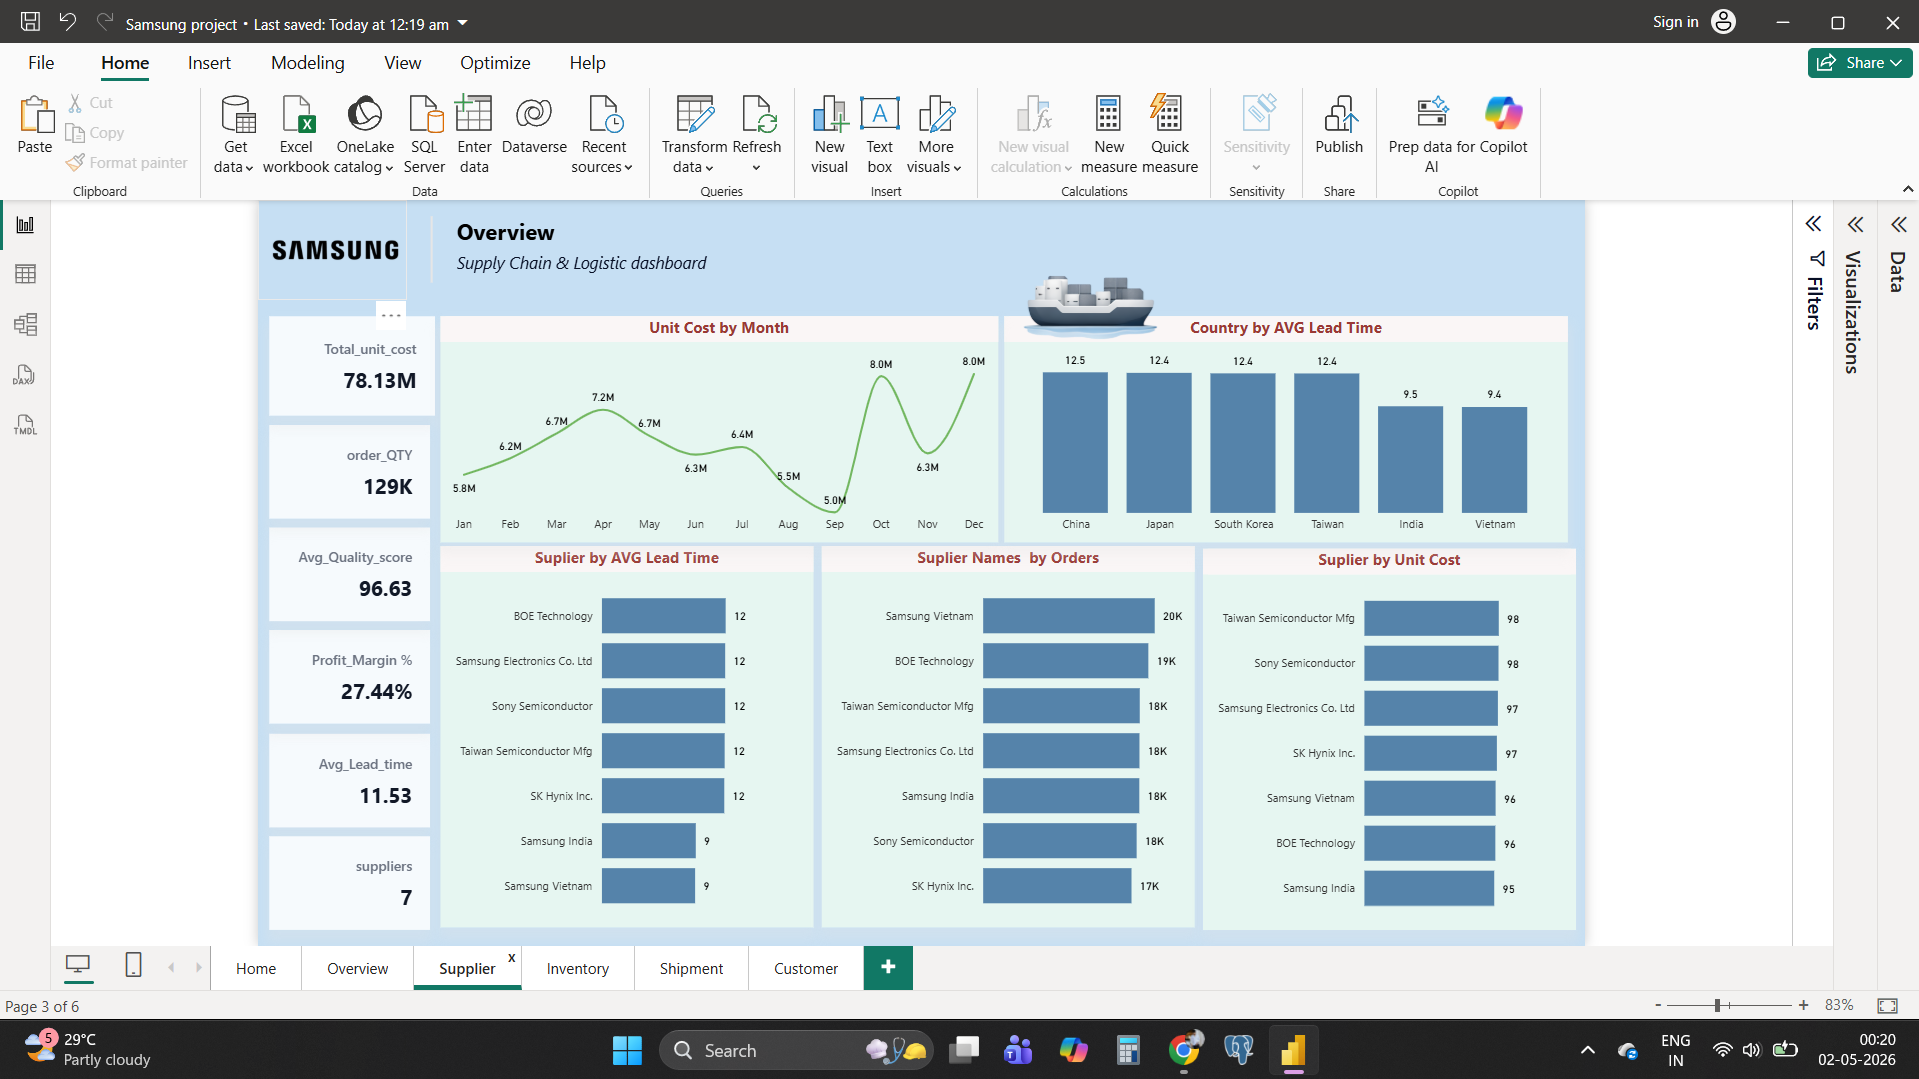

What the dashboard file says about the page in this screenshot:
{"tool":"powerbi","page":{"name":"Supplier","canvas":[1280,720],"ordinal":2},"visuals":[{"type":"shape","title":"Overview","box":[192,16,256,64],"z":0},{"type":"shape","box":[144,16,48,64],"z":1000},{"type":"image","box":[0,0,144,96],"z":2000},{"type":"cardVisual","fields":{"Data":["Measures_table.Avg_Lead_time"]},"box":[11.1,514.7,155,90],"z":3000},{"type":"cardVisual","fields":{"Data":["Measures_table.Profit_Margin %"]},"box":[11.1,415.5,155,90],"z":4000},{"type":"cardVisual","fields":{"Data":["CountNonNull(dim_supplier.supplier_id)"]},"box":[11.1,613.9,155,90],"z":5000},{"type":"cardVisual","fields":{"Data":["fact_procurement.Avg_Quality_score"]},"box":[11.1,316.4,155,90],"z":6000},{"type":"clusteredBarChart","title":"Suplier by AVG Lead Time","fields":{"Y":["Measures_table.Avg_Lead_time"],"Category":["dim_supplier.supplier_name"]},"box":[176.7,334.7,360,368],"z":7000},{"type":"clusteredBarChart","title":"Suplier Names  by Orders","fields":{"Y":["Measures_table.order_QTY"],"Category":["dim_supplier.supplier_name"]},"box":[544.3,334.7,360,368],"z":8000},{"type":"clusteredBarChart","title":"Suplier by Unit Cost","fields":{"Y":["fact_procurement.Avg_Quality_score"],"Category":["dim_supplier.supplier_name"]},"box":[912,336,360,368],"z":9000},{"type":"cardVisual","fields":{"Data":["Measures_table.order_QTY"]},"box":[11.1,217.2,155,90],"z":10000},{"type":"cardVisual","fields":{"Data":["fact_procurement.Total_unit_cost"]},"box":[11.1,112,160,96],"z":11000},{"type":"clusteredColumnChart","title":"Country by AVG Lead Time","fields":{"Category":["dim_supplier.country"],"Y":["Measures_table.Avg_Lead_time"]},"box":[720,112,544,218],"z":12000},{"type":"lineChart","title":"Unit Cost by Month","fields":{"Y":["fact_procurement.Total_unit_cost"],"Category":["dim_date.Short_Month"]},"box":[176,112,538,218],"z":13000},{"type":"image","box":[720,48,160,96],"z":14000}]}

Visuals, with their boxes on the page's 1280x720 design canvas (x1, y1, x2, y2). These are canvas units, not pixel positions in the 1919x1079 screenshot, which may show the page scaled, cropped or inside an application window:
"Overview" shape: 192, 16, 448, 80
shape: 144, 16, 192, 80
image: 0, 0, 144, 96
cardVisual - Measures_table.Avg_Lead_time: 11, 515, 166, 605
cardVisual - Measures_table.Profit_Margin %: 11, 416, 166, 506
cardVisual - CountNonNull(dim_supplier.supplier_id): 11, 614, 166, 704
cardVisual - fact_procurement.Avg_Quality_score: 11, 316, 166, 406
"Suplier by AVG Lead Time" clusteredBarChart: 177, 335, 537, 703
"Suplier Names  by Orders" clusteredBarChart: 544, 335, 904, 703
"Suplier by Unit Cost" clusteredBarChart: 912, 336, 1272, 704
cardVisual - Measures_table.order_QTY: 11, 217, 166, 307
cardVisual - fact_procurement.Total_unit_cost: 11, 112, 171, 208
"Country by AVG Lead Time" clusteredColumnChart: 720, 112, 1264, 330
"Unit Cost by Month" lineChart: 176, 112, 714, 330
image: 720, 48, 880, 144
